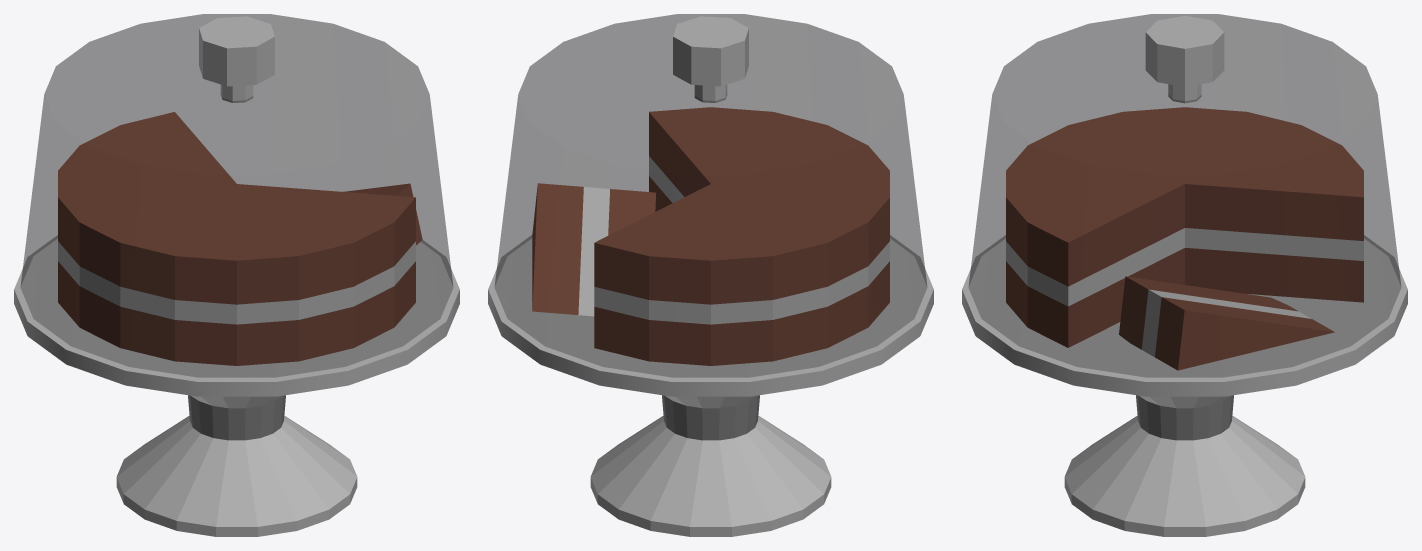
File: SM_foodCakePlate.glb
3 renders of one model, left to right at view 1: azimuth 30°, elevation 25°; view 2: azimuth 150°, elevation 25°; view 3: azimuth 270°, elevation 25°, orthographic.
Visible parts, largest first — view 1: SM_foodCakePlate; view 2: SM_foodCakePlate; view 3: SM_foodCakePlate.
Part boxes in pixels (x1,y1,x2,y2): SM_foodCakePlate: (14, 14, 459, 536); SM_foodCakePlate: (488, 14, 933, 536); SM_foodCakePlate: (962, 14, 1407, 536).
Size of the model in its own units: 0.5833 by 0.6664 by 0.5923.
2 materials, 1 textured.
